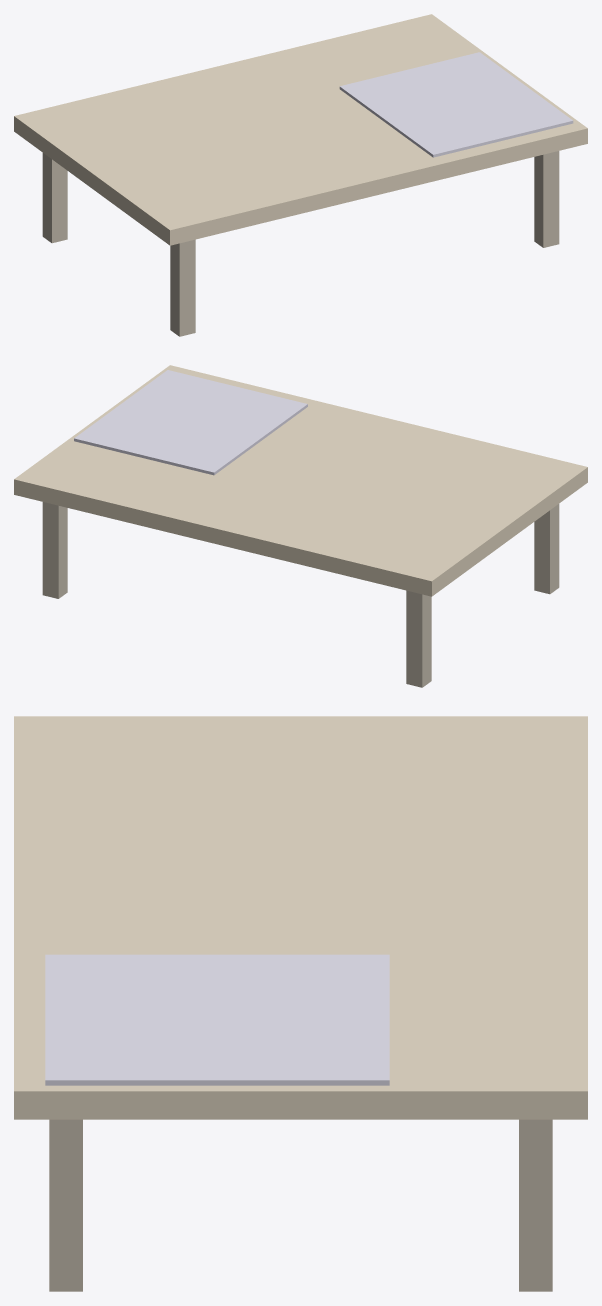
File: bench.fbx
3 views of the same model, one above another, from view 1: azimuth 30°, elevation 25°; view 2: azimuth 150°, elevation 25°; view 3: azimuth 270°, elevation 25° (orthographic). The views are drawn at different scales.
Parts seen in each view (by area): view 1: bench_0, bench_5, bench_3, bench_4, bench_1; view 2: bench_0, bench_5, bench_1, bench_2, bench_3; view 3: bench_0, bench_5, bench_2, bench_4.
Boxes of the visible parts, <box> form: bench_0: <box>14,14,587,245</box>; bench_5: <box>339,52,573,157</box>; bench_3: <box>170,239,195,336</box>; bench_4: <box>534,151,559,247</box>; bench_1: <box>42,153,67,243</box>; bench_0: <box>14,365,587,596</box>; bench_5: <box>74,370,307,475</box>; bench_1: <box>406,590,431,687</box>; bench_2: <box>42,502,67,598</box>; bench_3: <box>534,504,559,594</box>; bench_0: <box>14,716,587,1119</box>; bench_5: <box>45,954,389,1085</box>; bench_2: <box>519,1119,552,1291</box>; bench_4: <box>49,1119,82,1291</box>.
Bounding box in the file's own units: 34 × 9.42 × 22.
